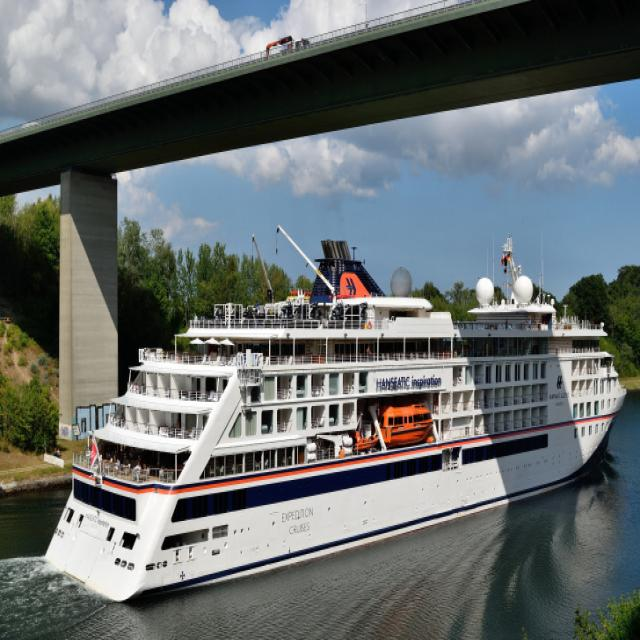cruises: (41, 219, 629, 615)
